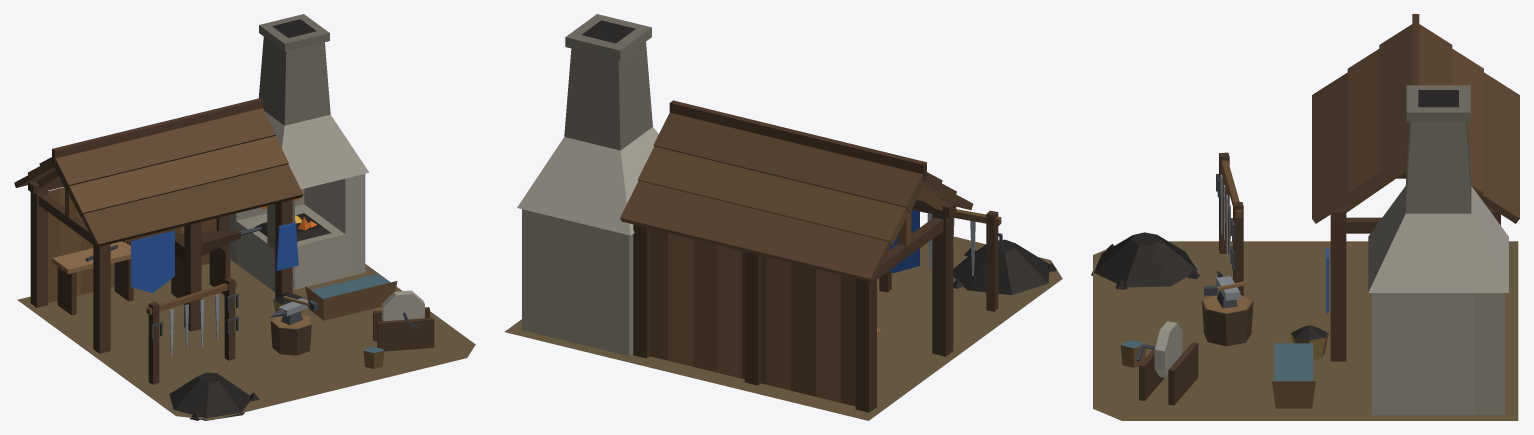
The model's file is blacksmith.glb.
3 views of the same model, side by side, from view 1: azimuth 30°, elevation 25°; view 2: azimuth 150°, elevation 25°; view 3: azimuth 270°, elevation 25° (orthographic). The views are drawn at different scales.
Parts seen in each view (by area): view 1: blacksmith; view 2: blacksmith; view 3: blacksmith.
Boxes of the visible parts, left/top/right/bottom form: blacksmith: left=14, top=14, right=475, bottom=420; blacksmith: left=505, top=14, right=1062, bottom=420; blacksmith: left=1091, top=14, right=1519, bottom=420.
Bounding box in the file's own units: 5.53 × 4.12 × 5.48.
